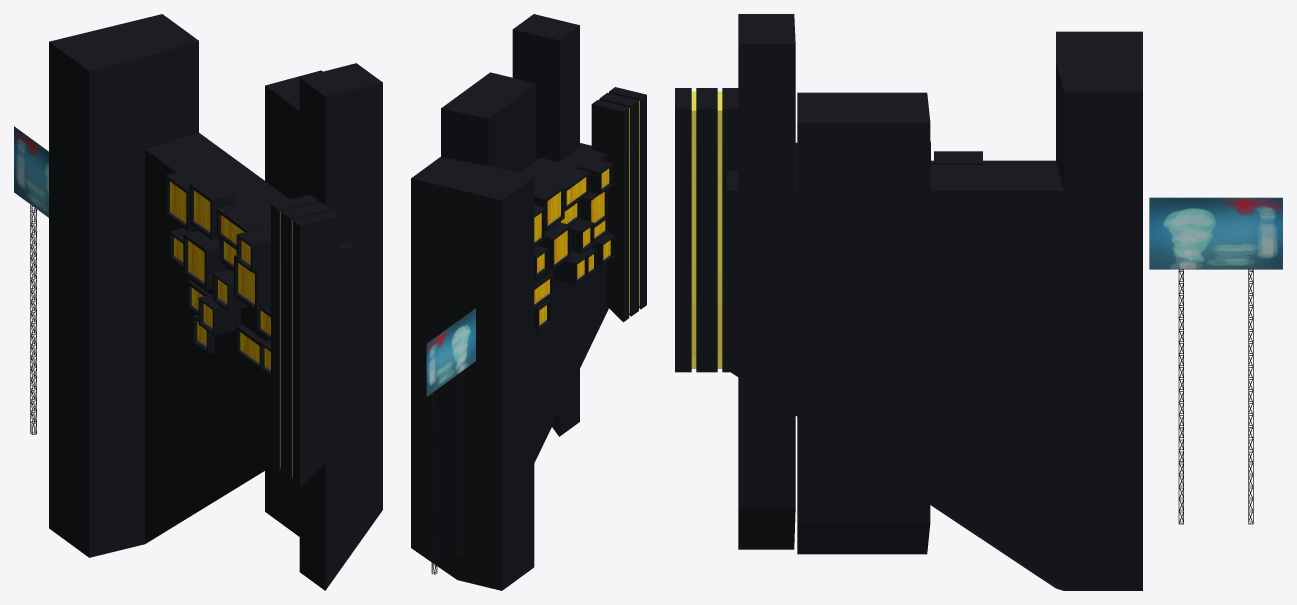
The model's file is test_decor_3.fbx.
3 renders of one model, left to right at view 1: azimuth 30°, elevation 25°; view 2: azimuth 150°, elevation 25°; view 3: azimuth 270°, elevation 25°, orthographic. The views are drawn at different scales.
Visible parts, largest first — view 1: Cube.049; view 2: Cube.049; view 3: Cube.049.
Boxes of the visible parts, x1,y1,x2,y2 form: Cube.049: [14, 14, 382, 590]; Cube.049: [411, 14, 646, 590]; Cube.049: [675, 14, 1282, 590].
Bounding box in the file's own units: 2486 × 7462 × 6938.
